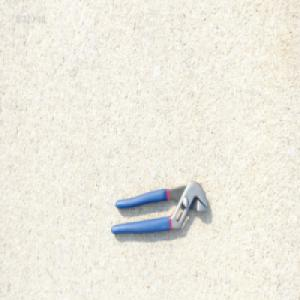Pliers: (110, 178, 212, 234)
